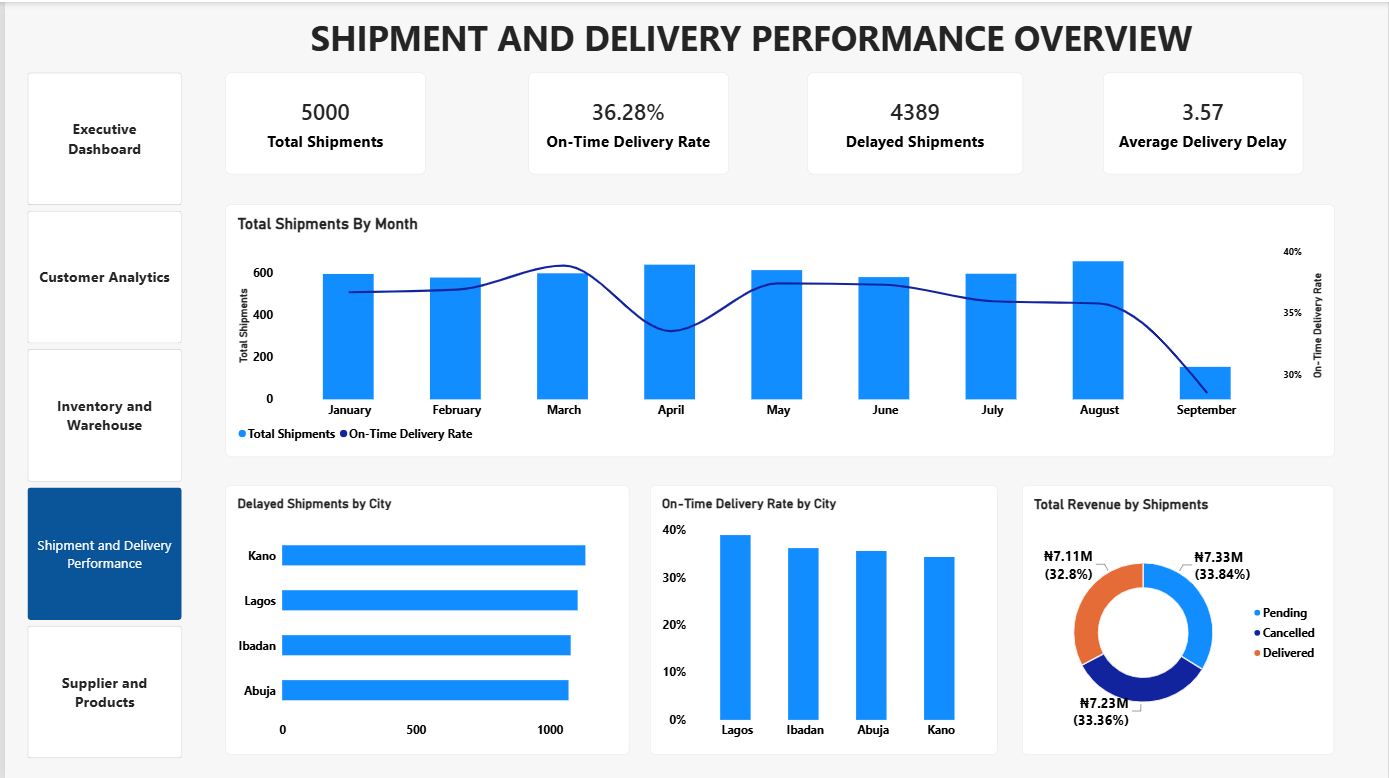

The page's visual inventory and layout, read from the dashboard file:
{"tool":"powerbi","page":{"name":"Shipment and Delivery Performance","canvas":[1920,1080],"ordinal":3},"visuals":[{"type":"card","fields":{"Values":["_Measure.Total Shipments"]},"box":[306.1,98.9,277.9,141.3],"z":0},{"type":"card","fields":{"Values":["_Measure.On-Time Delivery Rate"]},"box":[727.6,98.9,277.9,141.3],"z":1000},{"type":"card","fields":{"Values":["_Measure.Average Delivery Delay"]},"box":[1523.5,98.9,277.9,141.3],"z":2000},{"type":"card","fields":{"Values":["_Measure.Delayed Shipments"]},"box":[1113.8,98.9,299,141.3],"z":3000},{"type":"donutChart","title":"Total Revenue by Shipments","fields":{"Category":["Fact_Orders.Status"],"Y":["_Measure.Total Revenue"]},"box":[1412.8,671.1,433.3,374.4],"z":4000},{"type":"clusteredColumnChart","fields":{"Category":["Dim_Customers.City"],"Y":["_Measure.On-Time Delivery Rate"]},"box":[894.8,671.1,482.7,374.4],"z":5000},{"type":"textbox","box":[270.8,16.5,1530.6,65.9],"z":6000},{"type":"clusteredBarChart","fields":{"Category":["Dim_Customers.City"],"Y":["_Measure.Delayed Shipments"]},"box":[306.1,671.1,560.4,374.4],"z":7000},{"type":"lineStackedColumnComboChart","title":"Total Shipments By Month","fields":{"Category":["Fact_Orders.Month"],"Y":["_Measure.Total Shipments"],"Y2":["_Measure.On-Time Delivery Rate"]},"box":[306.1,280.2,1540,350.9],"z":8000},{"type":"pageNavigator","box":[30.6,98.9,214.3,953.7],"z":9000}]}

Visuals, with their boxes in screenshot pixels (x1, y1, x2, y2), scaled from the page's 1920x1080 canvas onto the 1389x778 screenshot:
card - _Measure.Total Shipments: BBox(221, 71, 422, 173)
card - _Measure.On-Time Delivery Rate: BBox(526, 71, 727, 173)
card - _Measure.Average Delivery Delay: BBox(1102, 71, 1303, 173)
card - _Measure.Delayed Shipments: BBox(806, 71, 1022, 173)
"Total Revenue by Shipments" donutChart: BBox(1022, 483, 1336, 753)
clusteredColumnChart - Dim_Customers.City x _Measure.On-Time Delivery Rate: BBox(647, 483, 997, 753)
textbox: BBox(196, 12, 1303, 59)
clusteredBarChart - Dim_Customers.City x _Measure.Delayed Shipments: BBox(221, 483, 627, 753)
"Total Shipments By Month" lineStackedColumnComboChart: BBox(221, 202, 1336, 455)
pageNavigator: BBox(22, 71, 177, 758)
